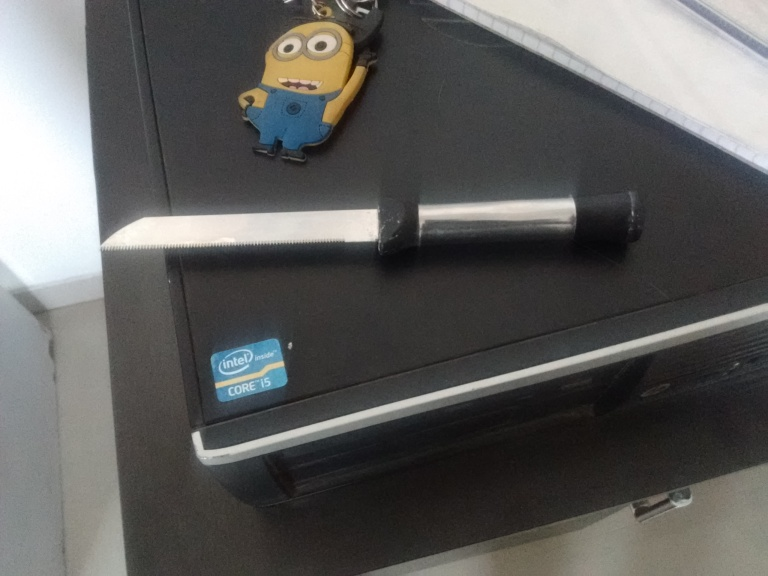knife: (102, 190, 648, 258)
